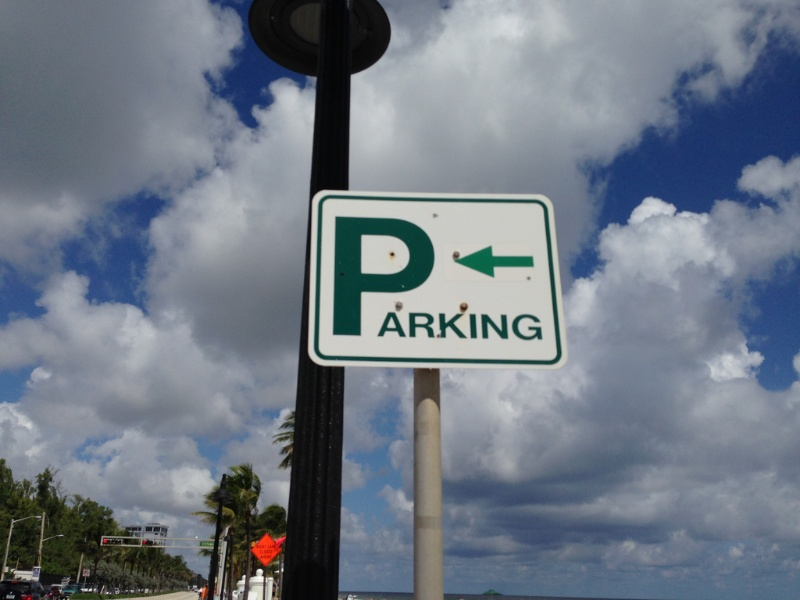parking: (310, 192, 451, 367)
